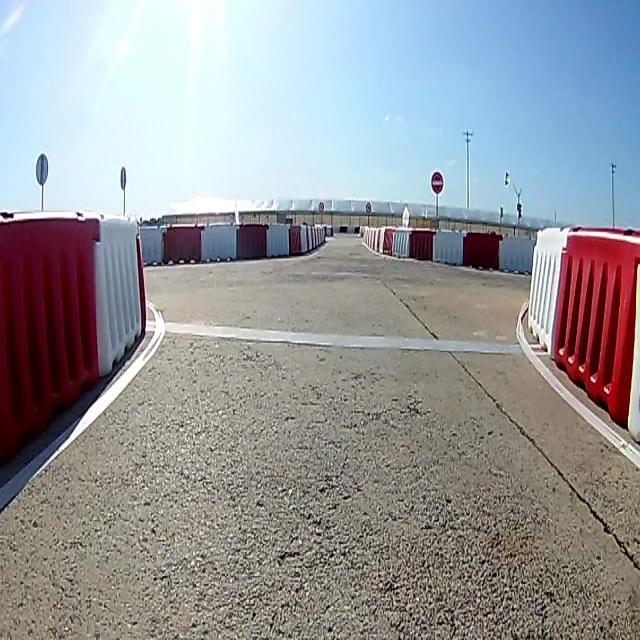girisyok: (430, 170, 446, 196)
